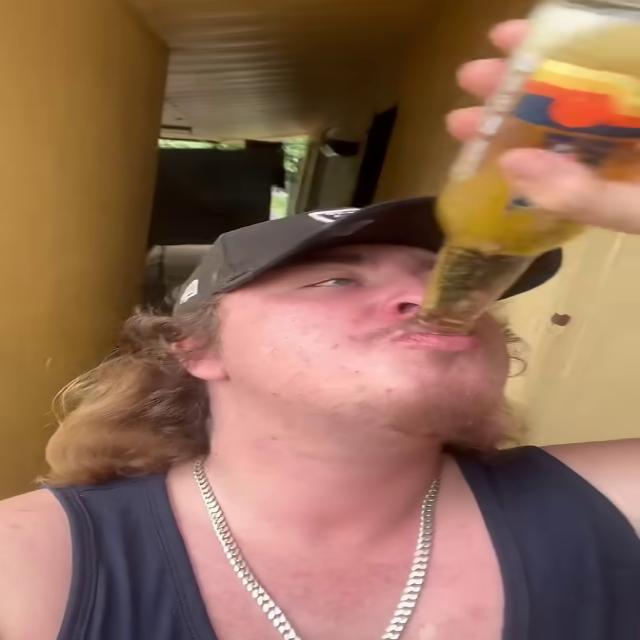Bottle: (412, 0, 639, 336)
Hand: (401, 3, 640, 237)
Mouth: (370, 320, 508, 360)
